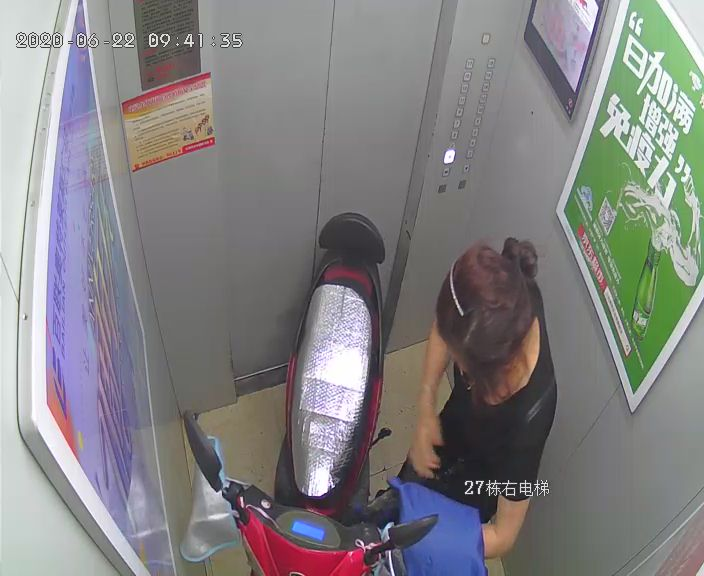Electric-bicycle: (185, 212, 438, 576)
